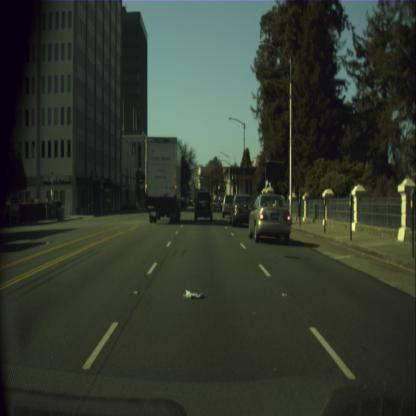Green: (221, 184, 223, 194), (200, 172, 202, 178), (224, 186, 226, 192)
Red: (192, 180, 194, 186)
